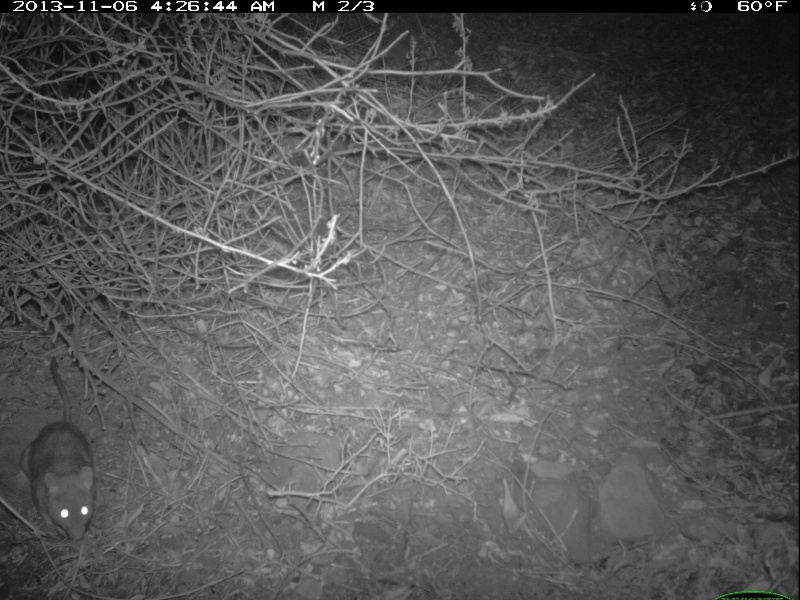opossum: (28, 415, 99, 549)
